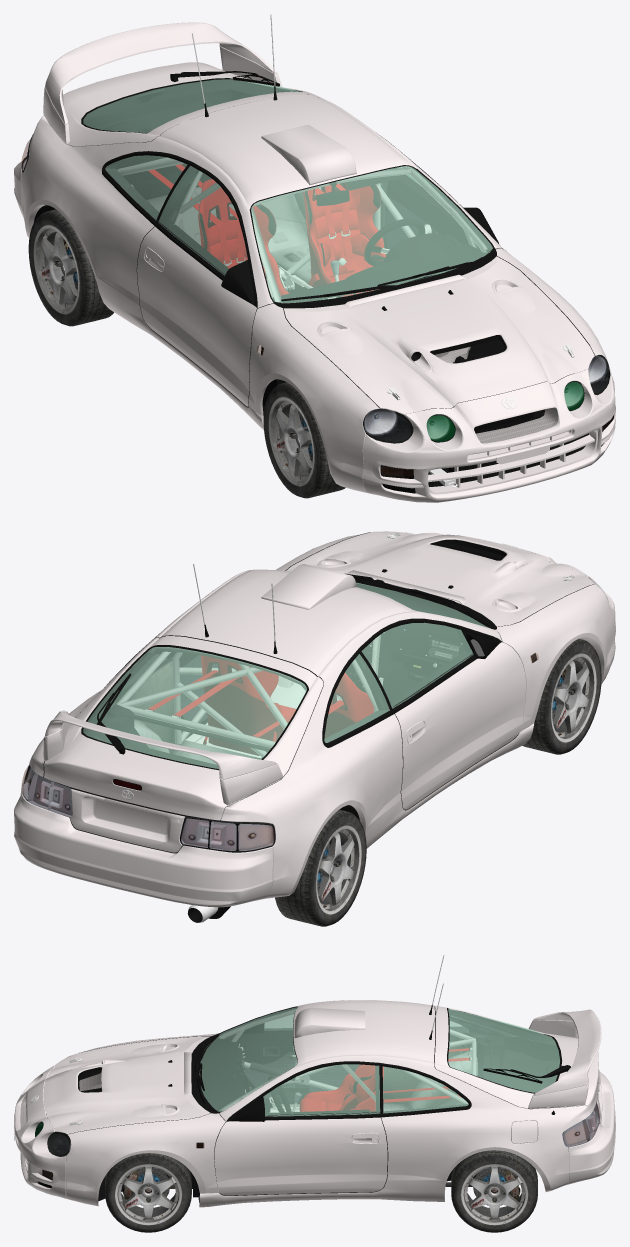
3 renders of one model, top to bottom at view 1: azimuth 30°, elevation 25°; view 2: azimuth 150°, elevation 25°; view 3: azimuth 270°, elevation 25°, orthographic. The views are drawn at different scales.
Parts seen in each view (by area): view 1: GTFOUR_SUB1_11, MOTORHOOD_SUB3_95, x0_window_f_68, FRONT_BUMPER_SUB3_4, x0_door_fr_SUB1_35, x0_wing_fr_SUB2_77, REAR_WING_0, x0_boot_SUB2_27, x0_window_fr_70, x0_main_interior_57, x0_window_b_65, seatR_cloth_147 (+32 smaller); view 2: GTFOUR_SUB1_11, x0_window_b_65, MOTORHOOD_SUB3_95, x0_boot_SUB2_27, x0_door_fr_SUB1_35, REAR_BUMPER.001_97, x0_main_interior_57, x0_wing_fr_SUB2_77, x0_window_fr_70, x0_under_b_SUB1_59, REAR_WING_0, x0_window_br_67 (+38 smaller); view 3: GTFOUR_SUB1_11, x0_door_fl_SUB1_31, MOTORHOOD_SUB3_95, x0_wing_fl_SUB2_73, x0_window_f_68, x0_window_b_65, x0_window_fl_69, REAR_WING_0, x0_under_b_SUB0_58, x0_main_interior_57, x0_boot_SUB2_27, x0_window_bl_66 (+33 smaller).
Boxes of the visible parts, left/top/right/bottom form: GTFOUR_SUB1_11: left=21, top=95, right=501, bottom=429; MOTORHOOD_SUB3_95: left=283, top=256, right=594, bottom=414; x0_window_f_68: left=251, top=166, right=492, bottom=303; FRONT_BUMPER_SUB3_4: left=404, top=369, right=607, bottom=502; x0_door_fr_SUB1_35: left=137, top=227, right=256, bottom=406; x0_wing_fr_SUB2_77: left=248, top=303, right=380, bottom=493; REAR_WING_0: left=43, top=22, right=282, bottom=144; x0_boot_SUB2_27: left=58, top=62, right=319, bottom=146; x0_window_fr_70: left=158, top=166, right=247, bottom=275; x0_main_interior_57: left=105, top=157, right=382, bottom=283; x0_window_b_65: left=83, top=79, right=300, bottom=133; seatR_cloth_147: left=303, top=184, right=385, bottom=296; GTFOUR_SUB1_11: left=22, top=564, right=534, bottom=899; x0_window_b_65: left=83, top=647, right=306, bottom=768; MOTORHOOD_SUB3_95: left=286, top=531, right=594, bottom=626; x0_boot_SUB2_27: left=44, top=635, right=323, bottom=820; x0_door_fr_SUB1_35: left=395, top=642, right=526, bottom=809; REAR_BUMPER.001_97: left=17, top=801, right=246, bottom=907; x0_main_interior_57: left=116, top=652, right=389, bottom=764; x0_wing_fr_SUB2_77: left=496, top=584, right=614, bottom=731; x0_window_fr_70: left=361, top=622, right=473, bottom=708; x0_under_b_SUB1_59: left=70, top=789, right=185, bottom=852; REAR_WING_0: left=43, top=710, right=283, bottom=805; x0_window_br_67: left=324, top=654, right=389, bottom=742; GTFOUR_SUB1_11: left=199, top=1000, right=590, bottom=1207; x0_door_fl_SUB1_31: left=214, top=1117, right=387, bottom=1195; MOTORHOOD_SUB3_95: left=43, top=1036, right=210, bottom=1134; x0_wing_fl_SUB2_73: left=66, top=1113, right=225, bottom=1206; x0_window_f_68: left=199, top=1007, right=297, bottom=1112; x0_window_b_65: left=448, top=1008, right=559, bottom=1092; x0_window_fl_69: left=263, top=1064, right=380, bottom=1116; REAR_WING_0: left=528, top=1009, right=601, bottom=1108; x0_under_b_SUB0_58: left=447, top=1035, right=599, bottom=1181; x0_main_interior_57: left=383, top=1026, right=477, bottom=1113; x0_boot_SUB2_27: left=434, top=1005, right=598, bottom=1112; x0_window_bl_66: left=382, top=1066, right=468, bottom=1113.
Size of what is drawn, in the model's own units: 1.77 by 1.73 by 4.42.
Materials: 30 (21 with a texture image).
